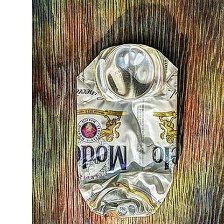can: (69, 42, 181, 220)
